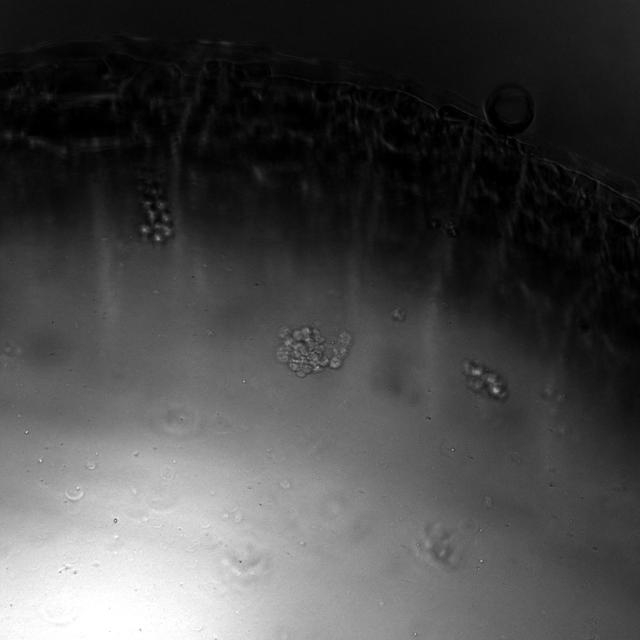organoid: (277, 326, 351, 376), (416, 519, 476, 569), (139, 174, 174, 244), (463, 359, 508, 401), (391, 307, 404, 321)
